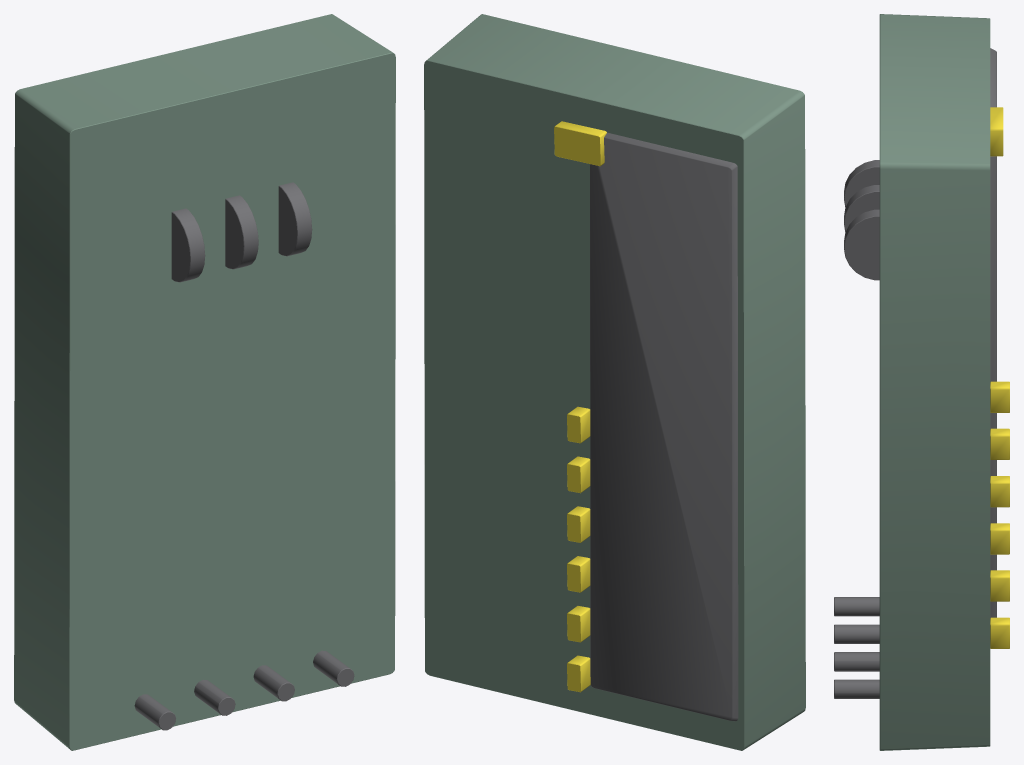
The model's file is LV_control_panel.fbx.
3 renders of one model, left to right at view 1: azimuth 30°, elevation 25°; view 2: azimuth 150°, elevation 25°; view 3: azimuth 270°, elevation 25°, orthographic. The views are drawn at different scales.
Visible parts, largest first — view 1: LV_control_panel; view 2: LV_control_panel; view 3: LV_control_panel.
Part boxes in pixels (bbox=[...]): LV_control_panel: bbox=[14, 14, 395, 750]; LV_control_panel: bbox=[424, 14, 805, 750]; LV_control_panel: bbox=[834, 14, 1009, 750].
Bounding box in the file's own units: 1.1 × 2 × 0.54.
